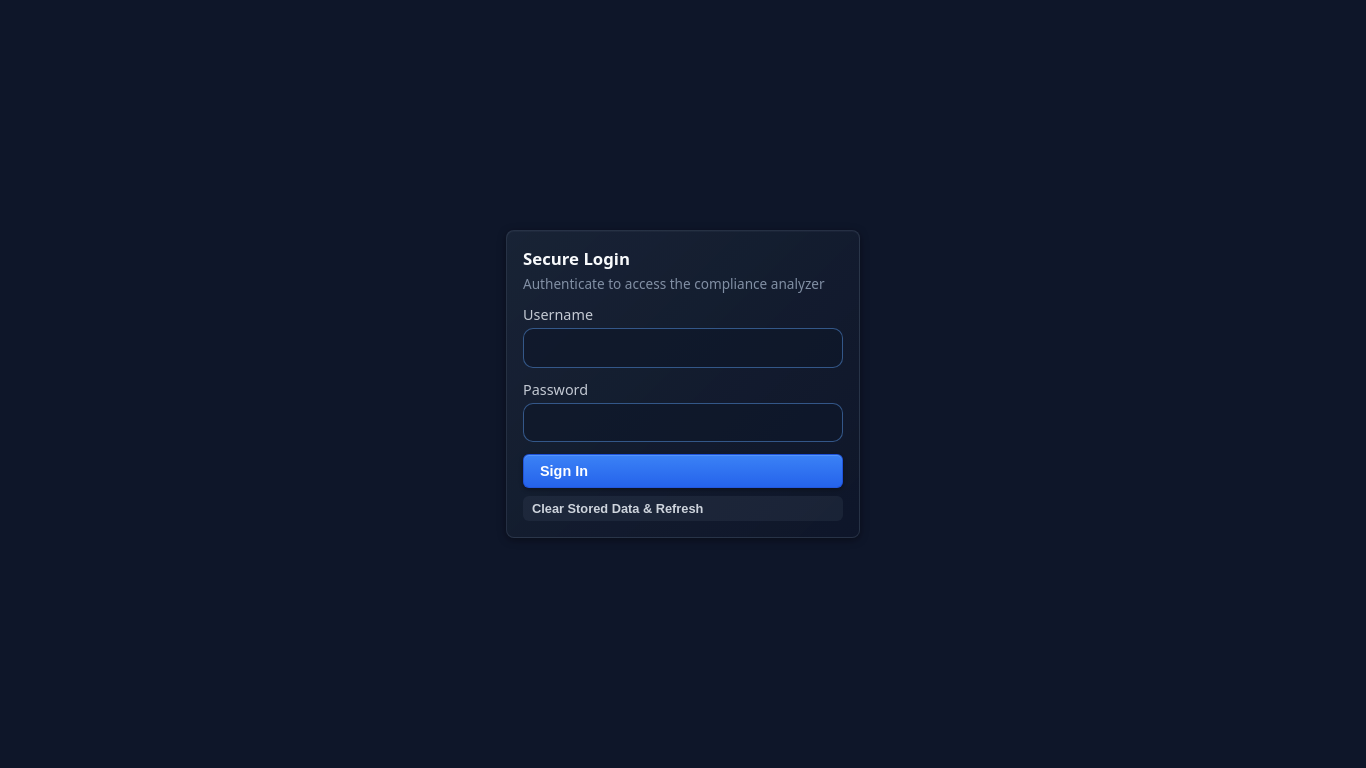
it: LoginOverlay › shows error message if login fails
Type "clinician" into the field labelled "Username" at [683, 348], box [523,328,843,368]
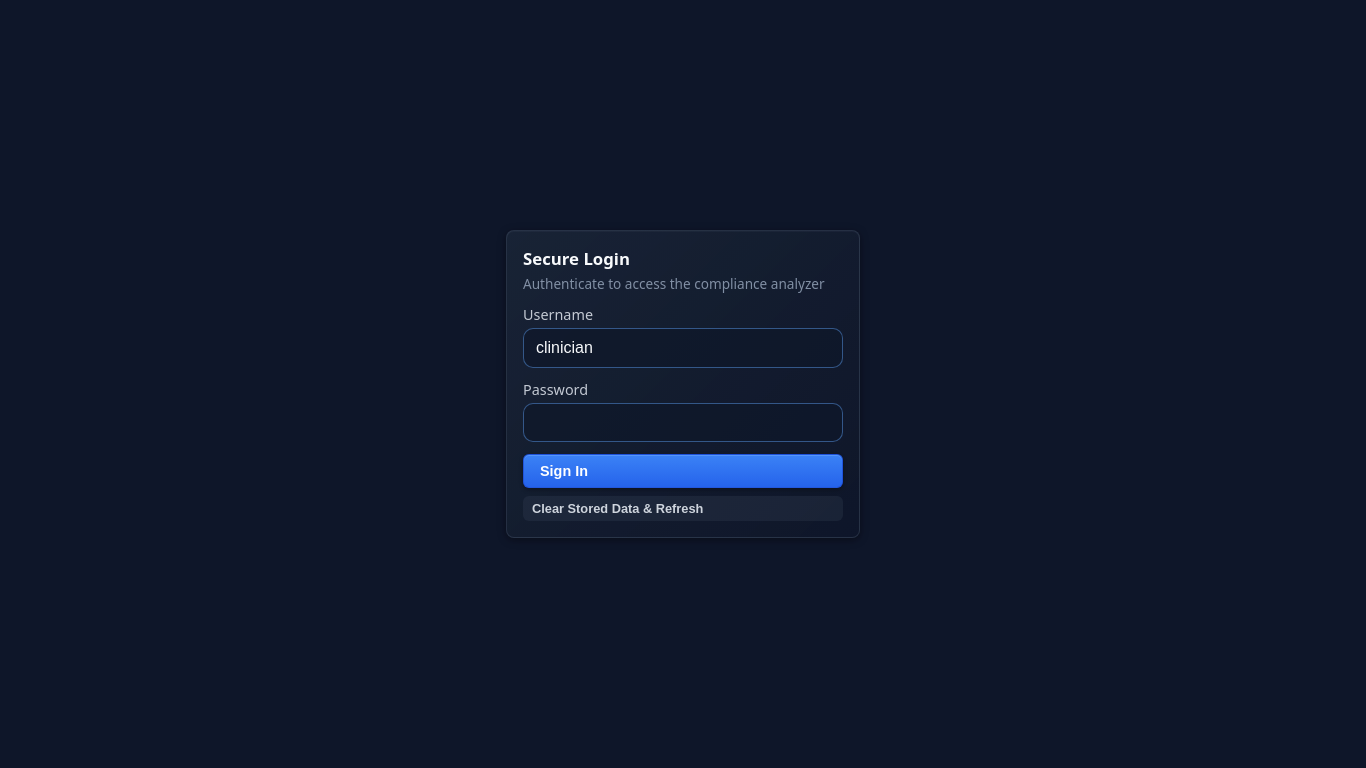
Type "bad-pass" into the password field labelled "Password" at [683, 422], box [523,402,843,442]
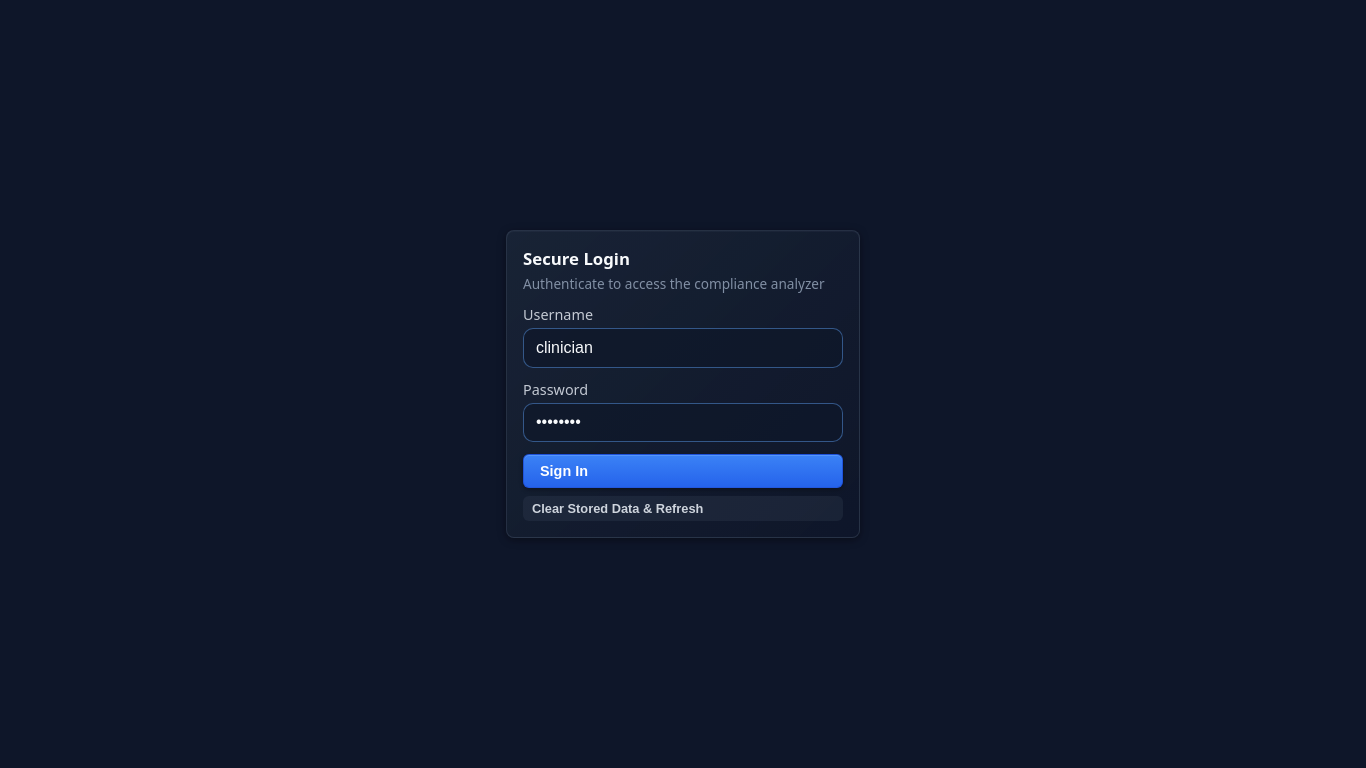
Submit the form from the button "Sign In", box [523,454,843,488]
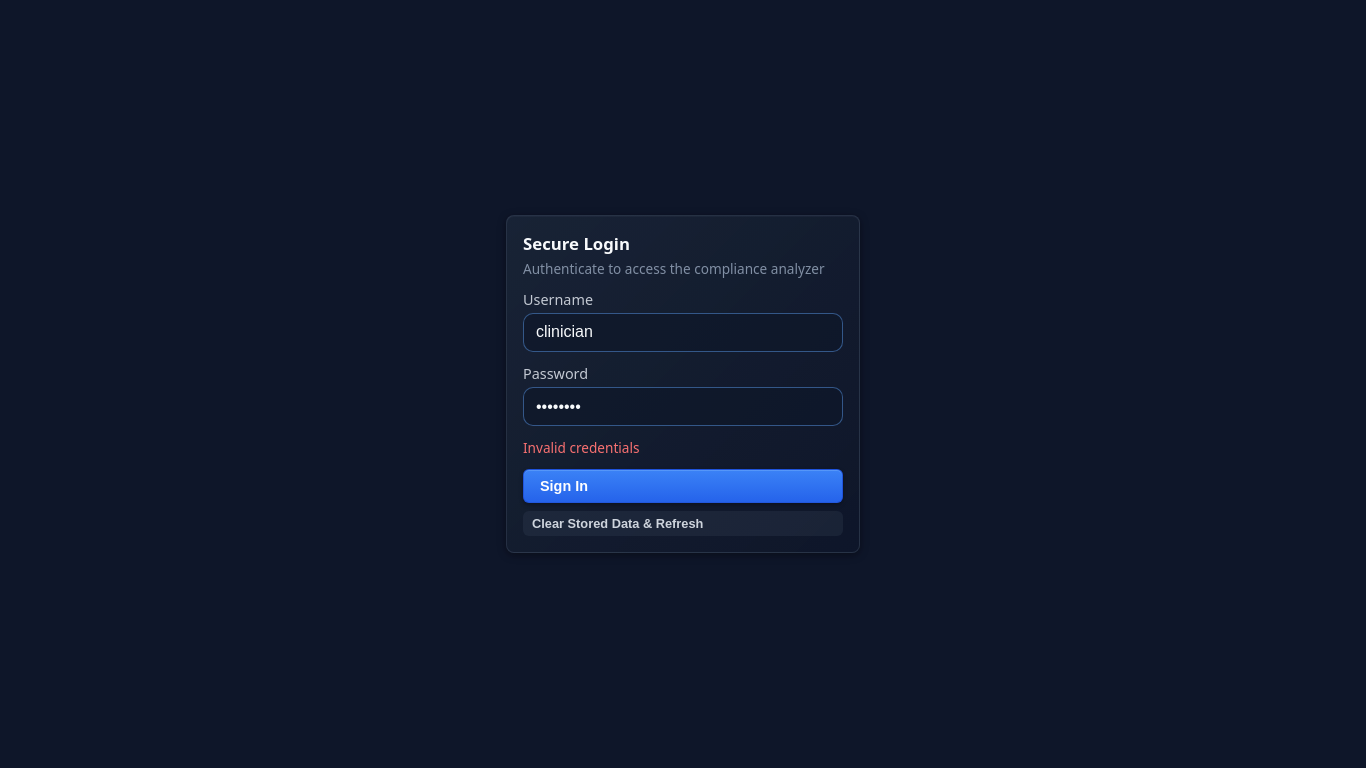
Check: the text "Invalid credentials" is shown, box [523,438,640,457]
